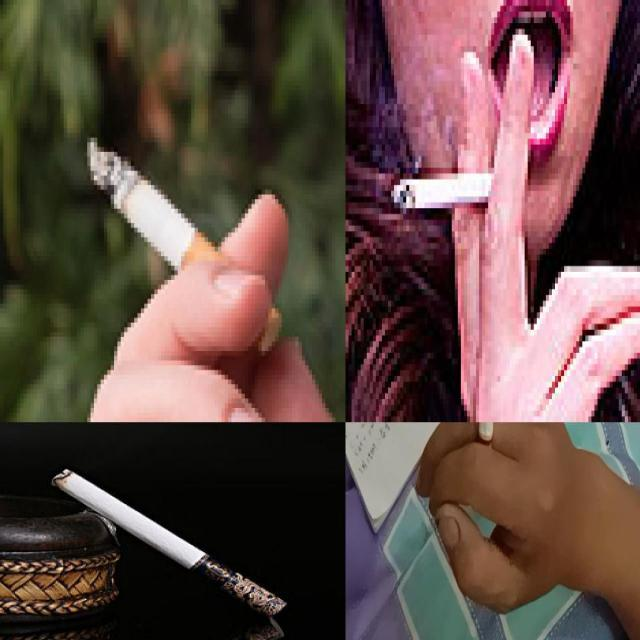smoking: (50, 468, 288, 618), (80, 128, 202, 262), (382, 162, 485, 208), (476, 422, 498, 467)
